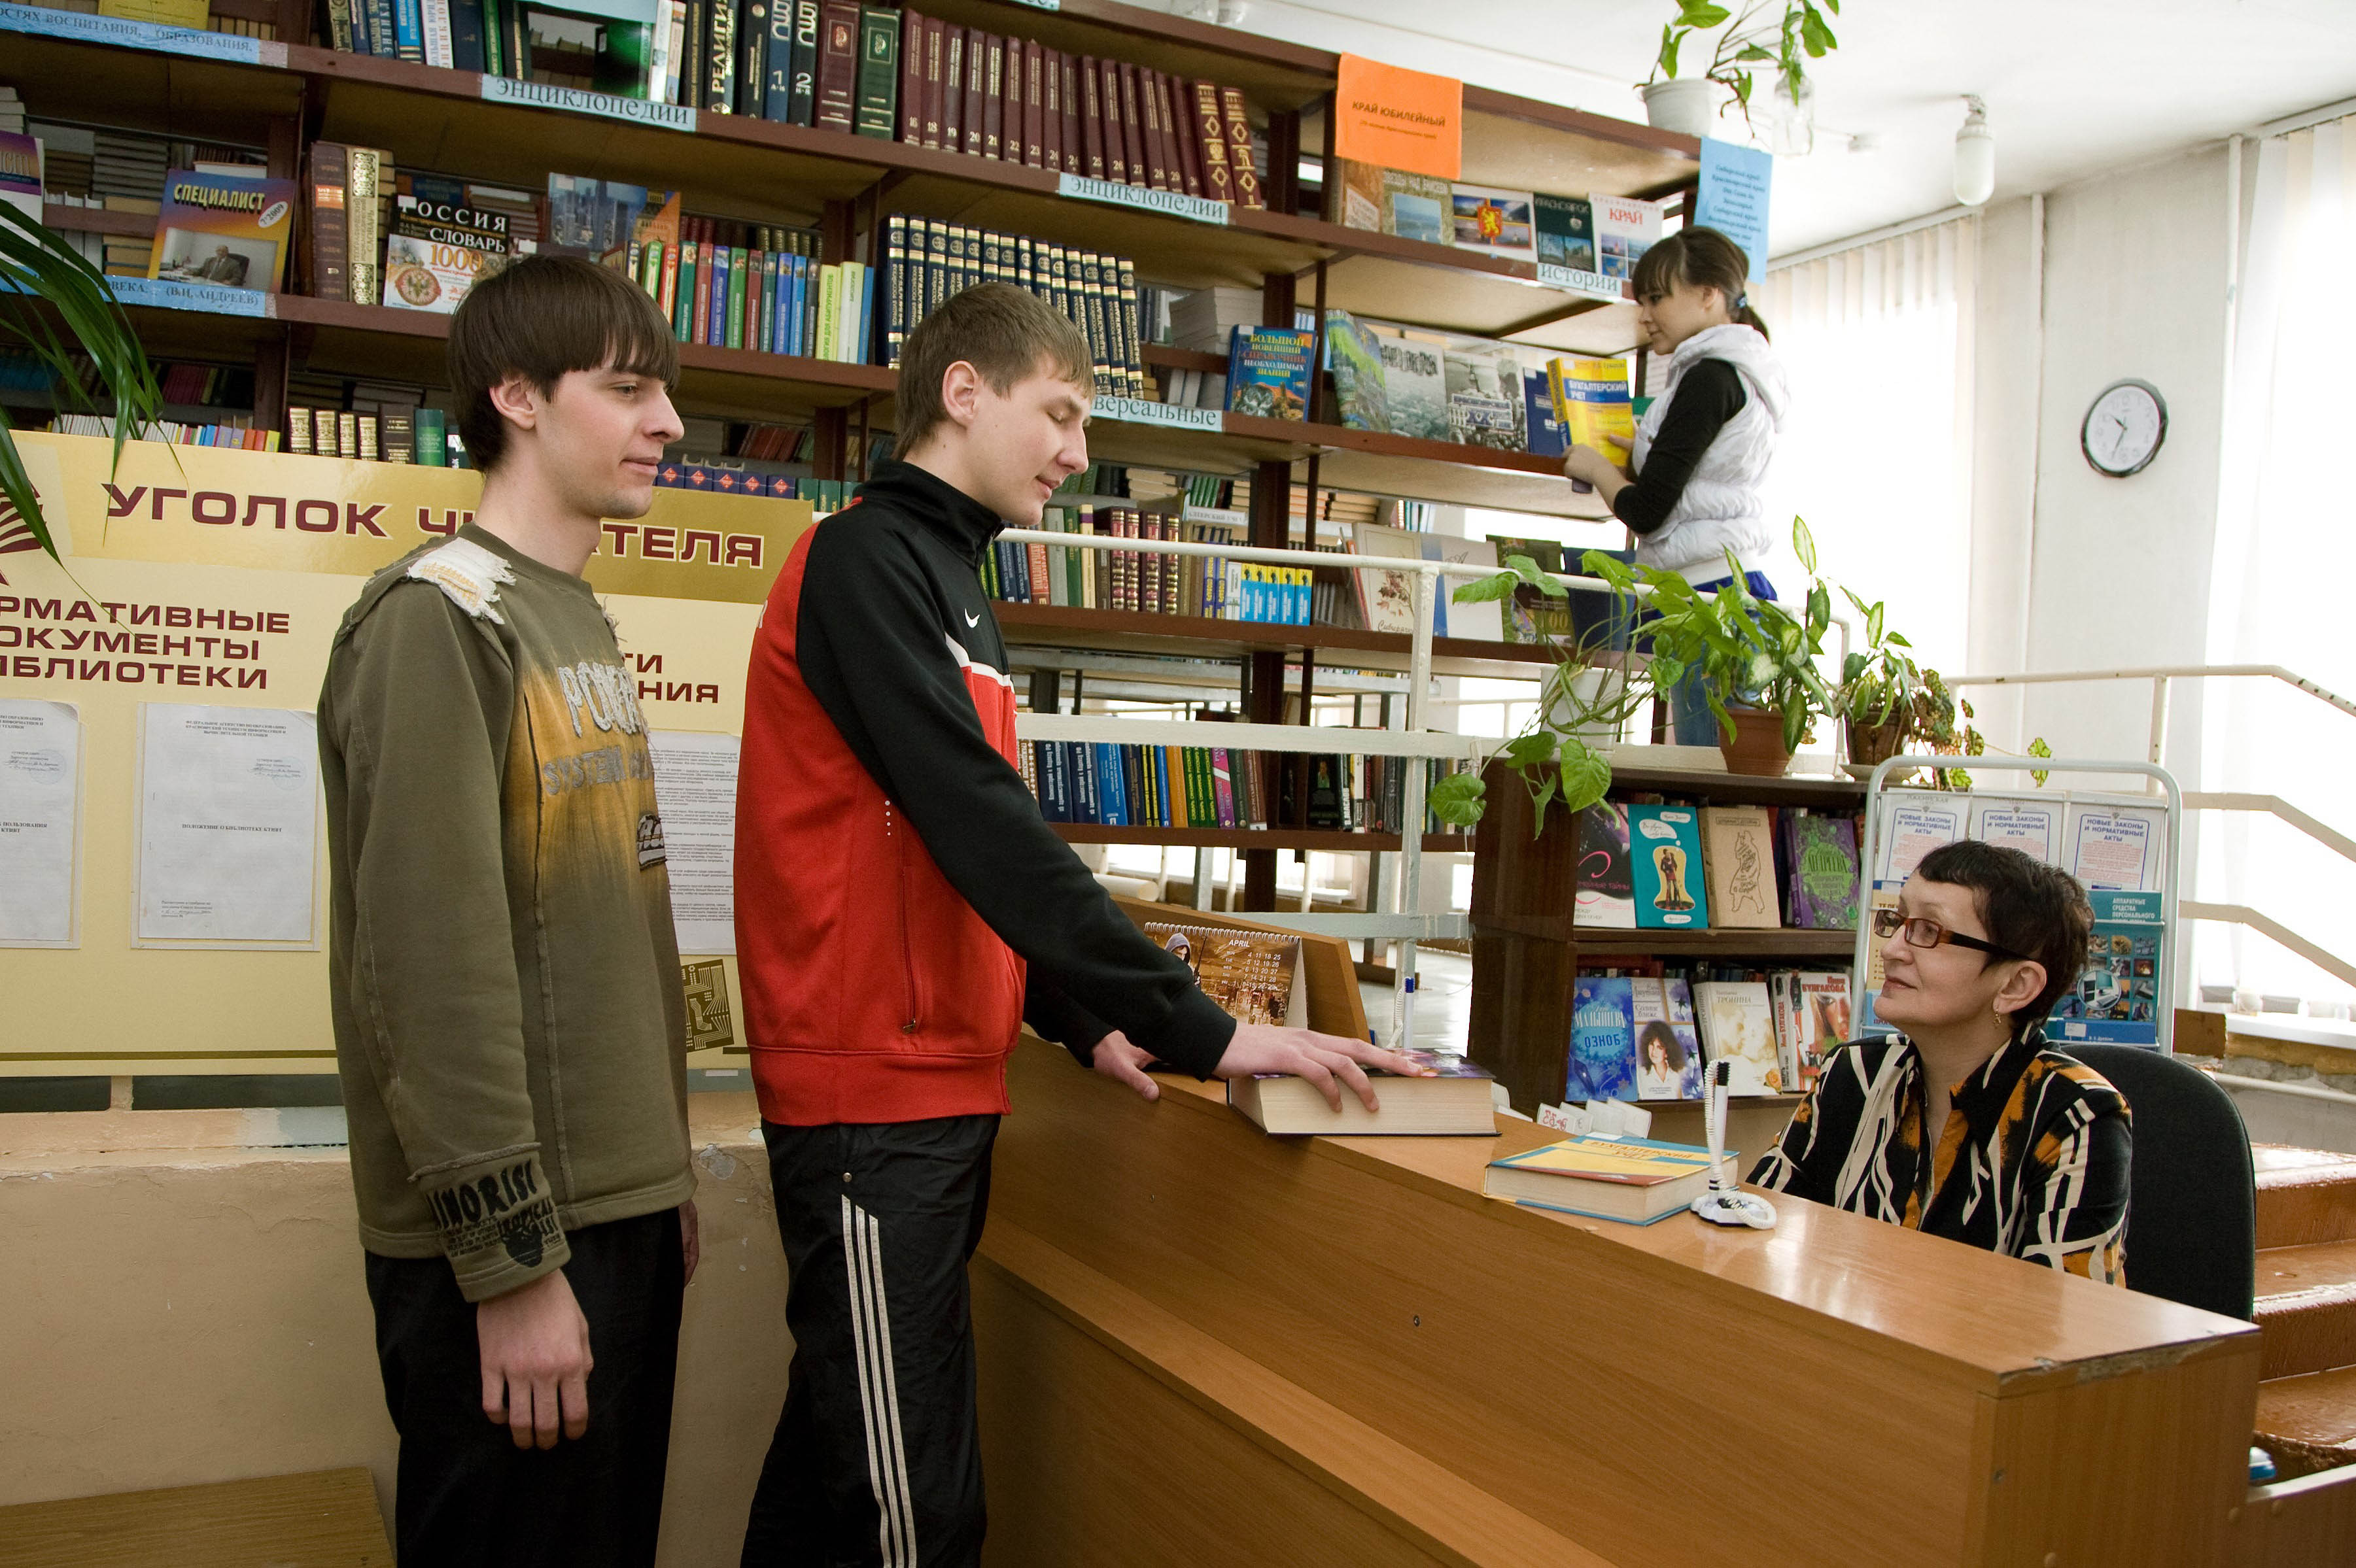students: (740, 281, 1422, 1557), (320, 256, 688, 1562), (1741, 838, 2134, 1294), (1565, 226, 1787, 751)
